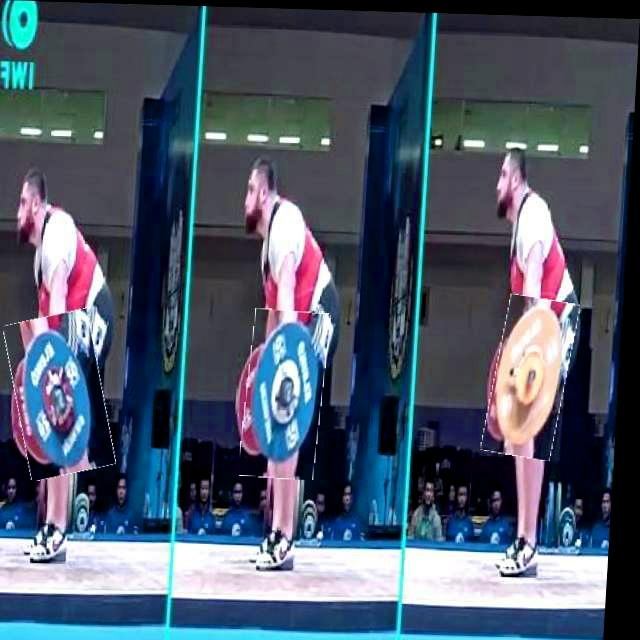barbell: (10, 311, 120, 480), (247, 307, 334, 479), (490, 292, 579, 457)
